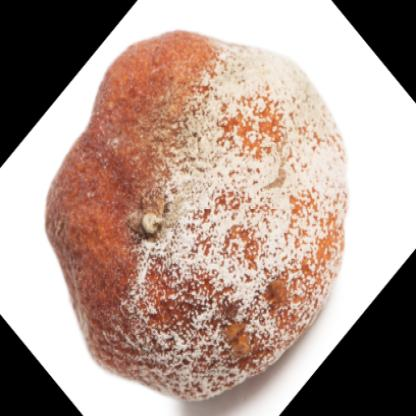rotten: (46, 31, 349, 404)
